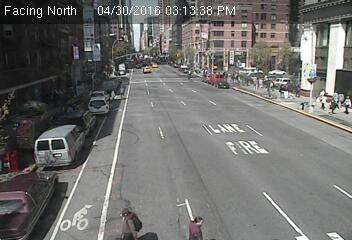neg: (206, 50, 219, 68), (180, 54, 190, 67)
pos: (113, 204, 140, 239), (186, 212, 206, 238), (328, 98, 341, 115), (318, 94, 329, 109), (282, 83, 293, 98), (343, 96, 351, 115)
